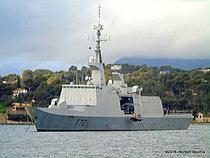MIL_Ship: (22, 22, 195, 131)
